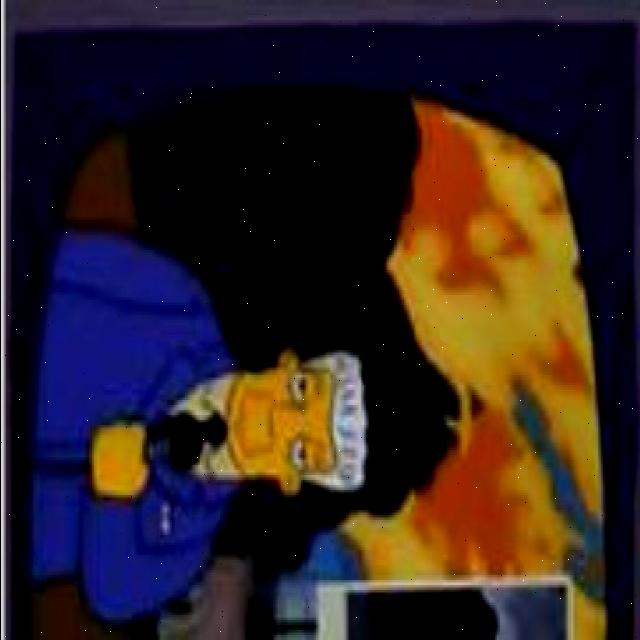Kent Brockman: (226, 344, 368, 502)
